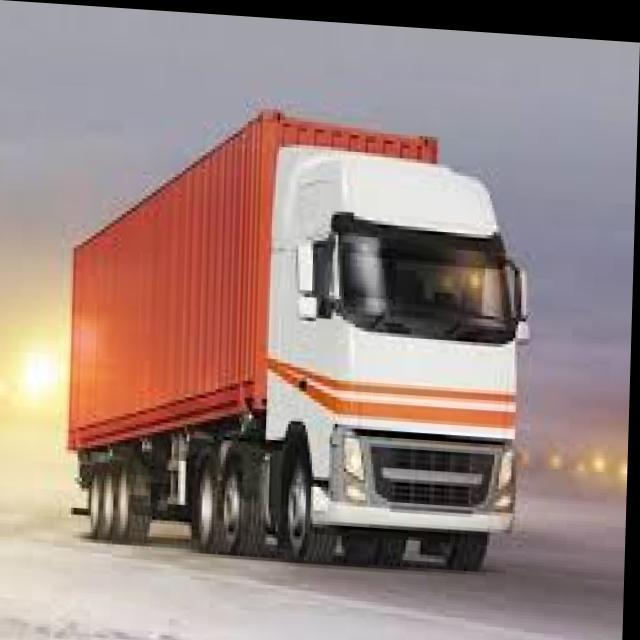covered: (64, 88, 542, 567)
